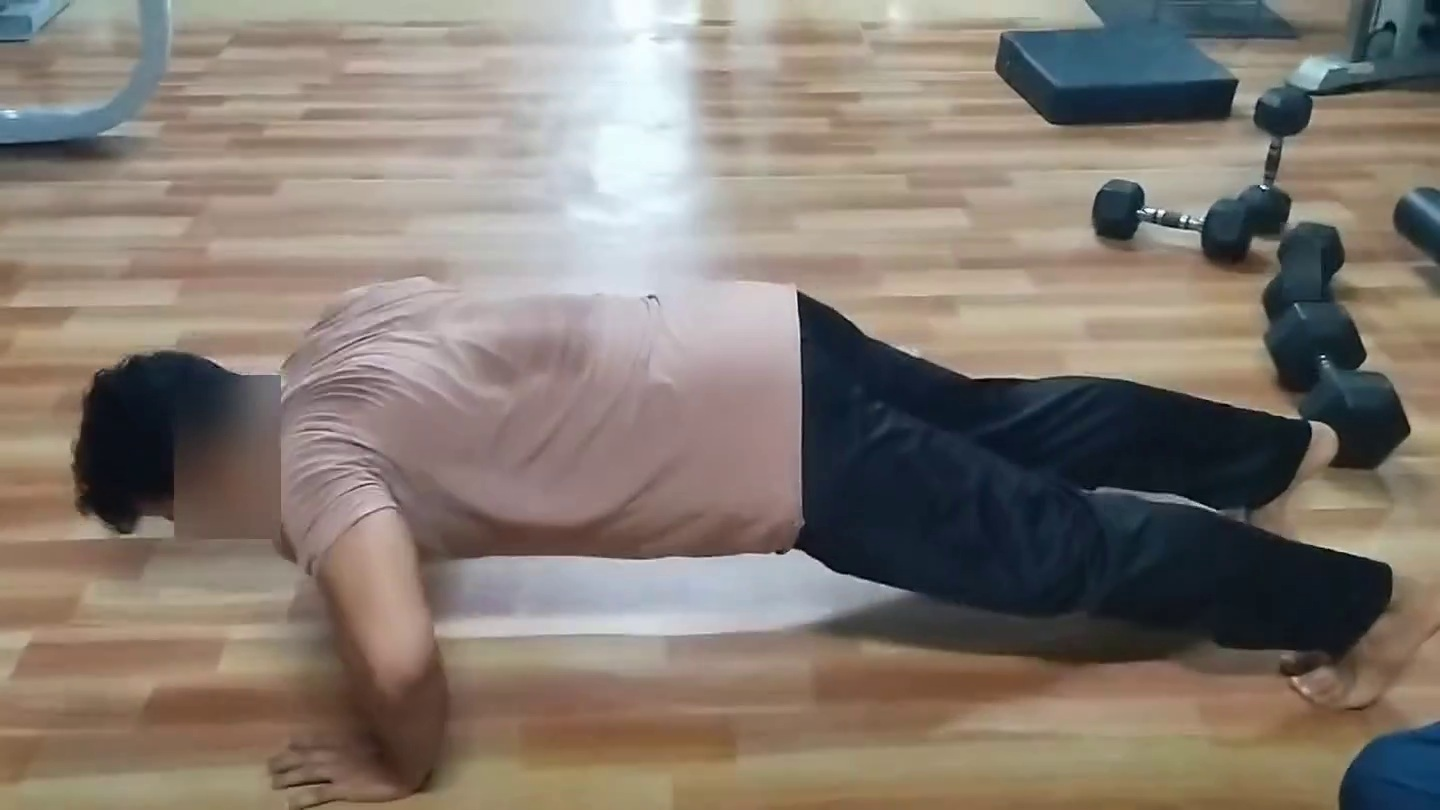push_up: (50, 245, 1440, 810)
